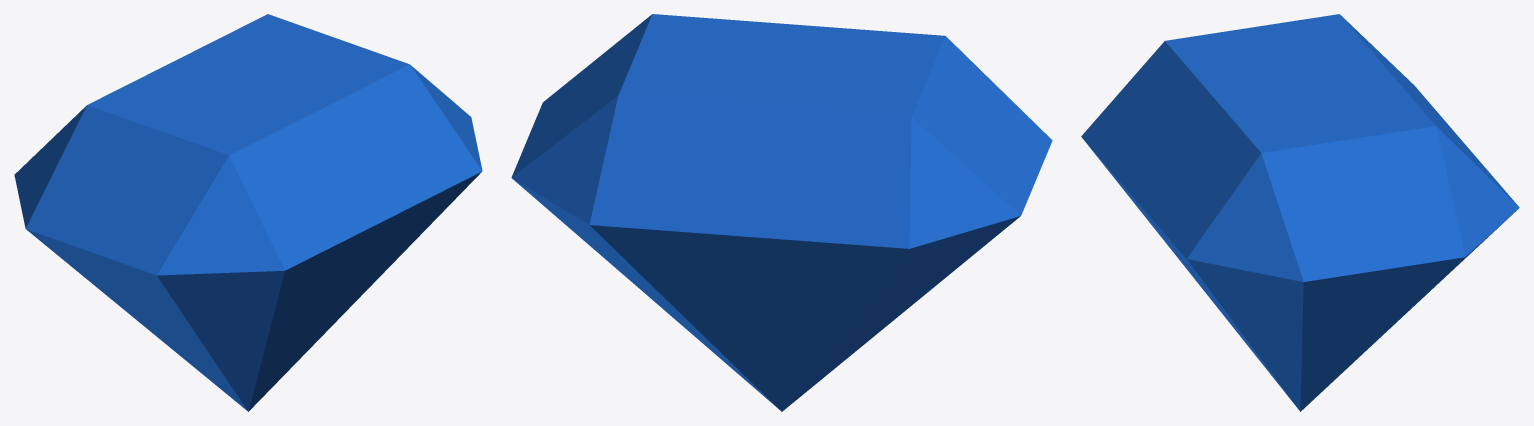
The model's file is WaterGem.fbx.
The picture shows the model from 3 angles, left to right: view 1: azimuth 30°, elevation 25°; view 2: azimuth 150°, elevation 25°; view 3: azimuth 270°, elevation 25°; orthographic projection. The views are drawn at different scales.
Visible parts, largest first — view 1: WaterGem; view 2: WaterGem; view 3: WaterGem.
Boxes of the visible parts, left/top/right/bottom form: WaterGem: left=14, top=14, right=482, bottom=411; WaterGem: left=511, top=14, right=1052, bottom=411; WaterGem: left=1081, top=14, right=1519, bottom=411.
Size of the model in its own units: 148 by 103 by 125.
